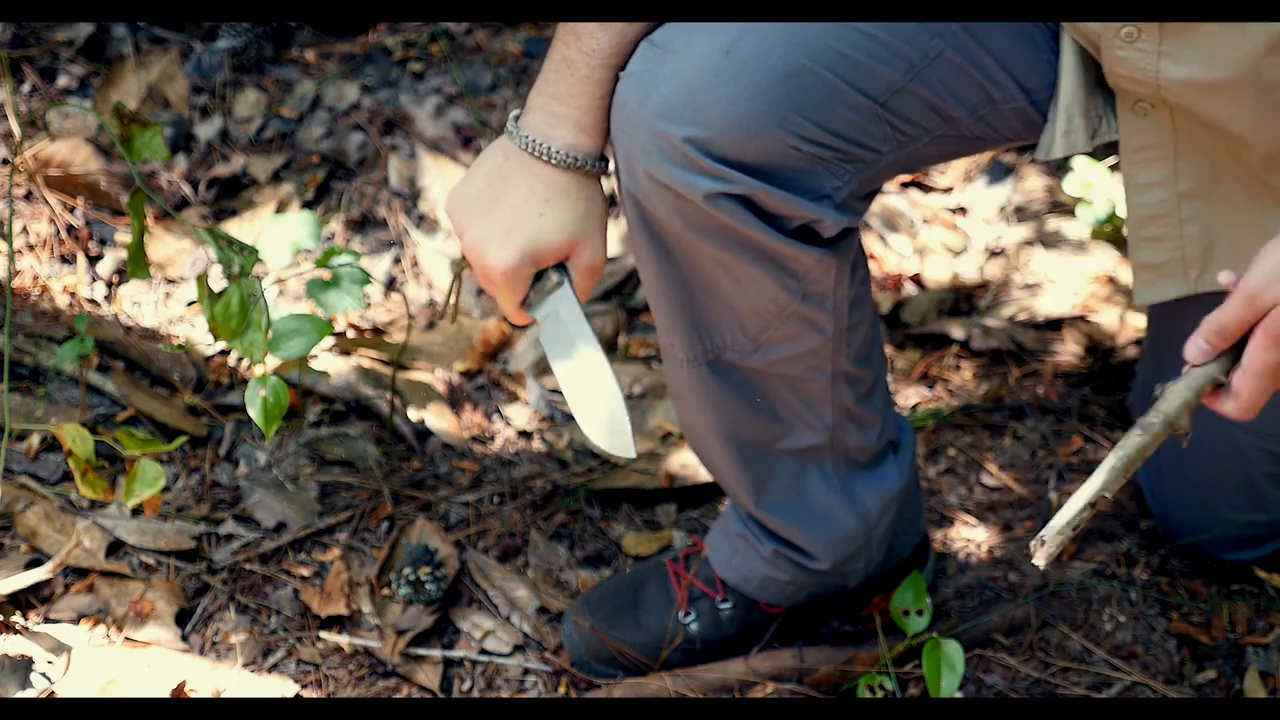knife: (441, 197, 650, 473)
